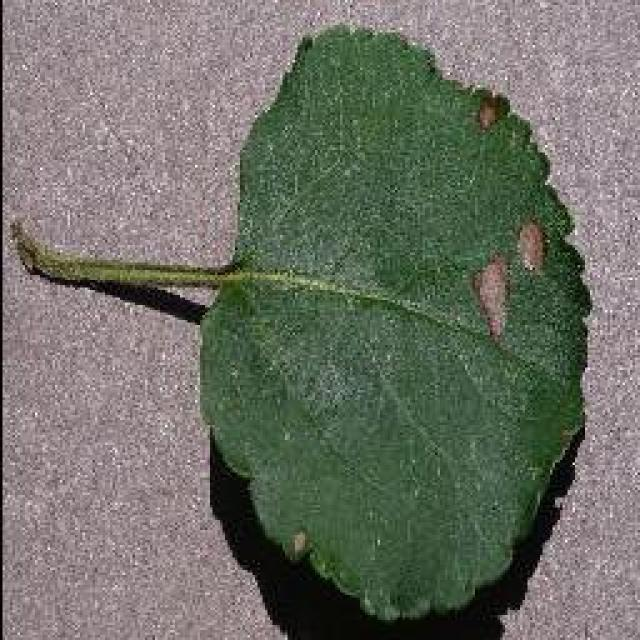Black_rot: (10, 20, 592, 622)
